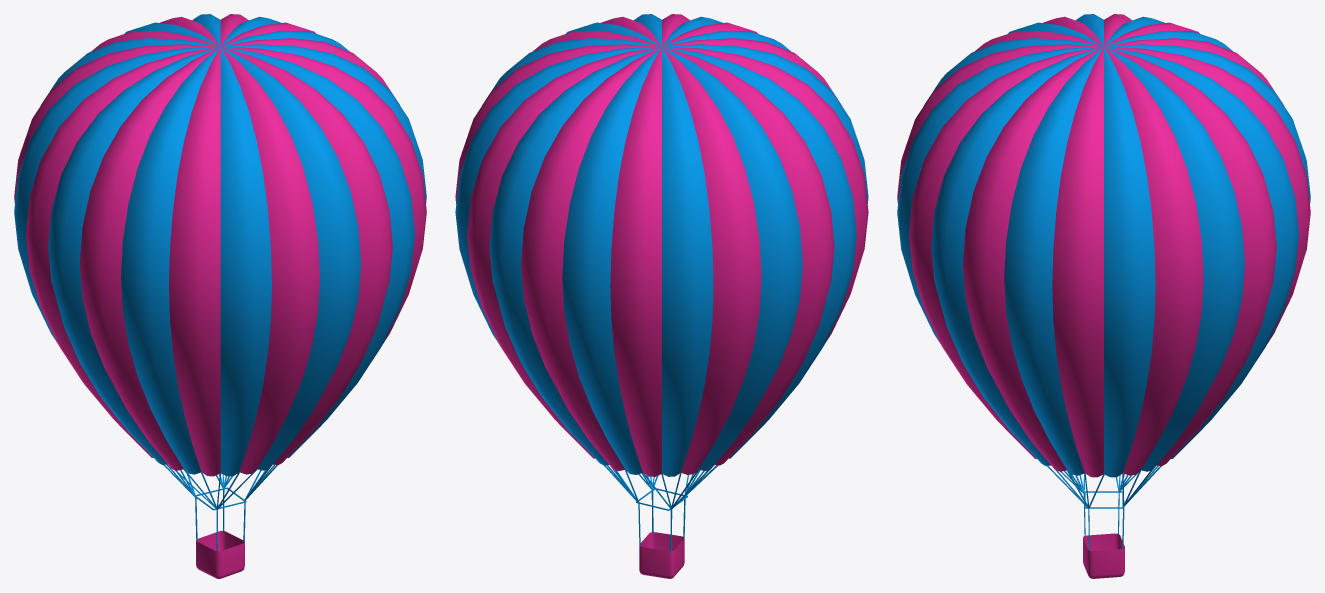
File: balloonLeft.glb
3 views of the same model, side by side, from view 1: azimuth 30°, elevation 25°; view 2: azimuth 150°, elevation 25°; view 3: azimuth 270°, elevation 25° (orthographic).
Parts seen in each view (by area): view 1: Sphere.006, Cube.006, Sphere.007; view 2: Sphere.006, Cube.006, Sphere.007; view 3: Sphere.006, Cube.006, Sphere.007.
Boxes of the visible parts, x1,y1,x2,y2 form: Sphere.006: (14,14,426,476); Cube.006: (196,531,244,578); Sphere.007: (163,464,277,551); Sphere.006: (455,14,868,476); Cube.006: (639,532,684,578); Sphere.007: (604,465,718,551); Sphere.006: (897,14,1310,477); Cube.006: (1083,533,1124,578); Sphere.007: (1047,465,1161,550).
Bounding box in the file's own units: 37.87 × 53.04 × 37.87.
